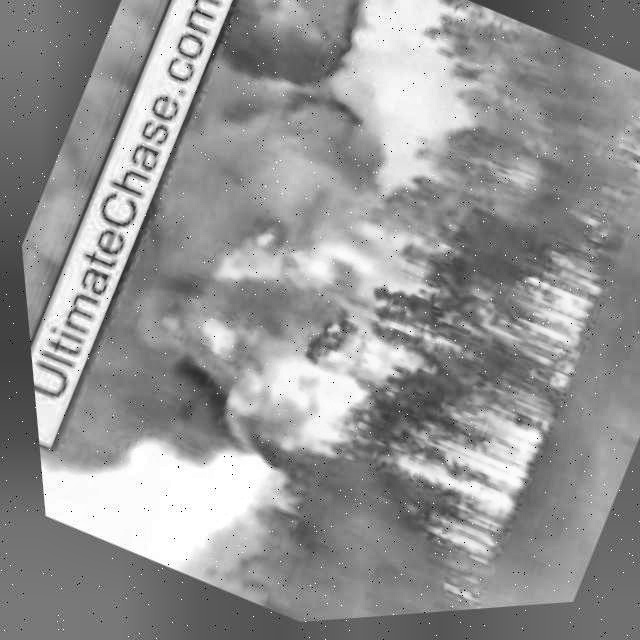Fire: (127, 93, 634, 583), (593, 83, 640, 199)
Smoke: (0, 0, 512, 584), (0, 0, 247, 430)
